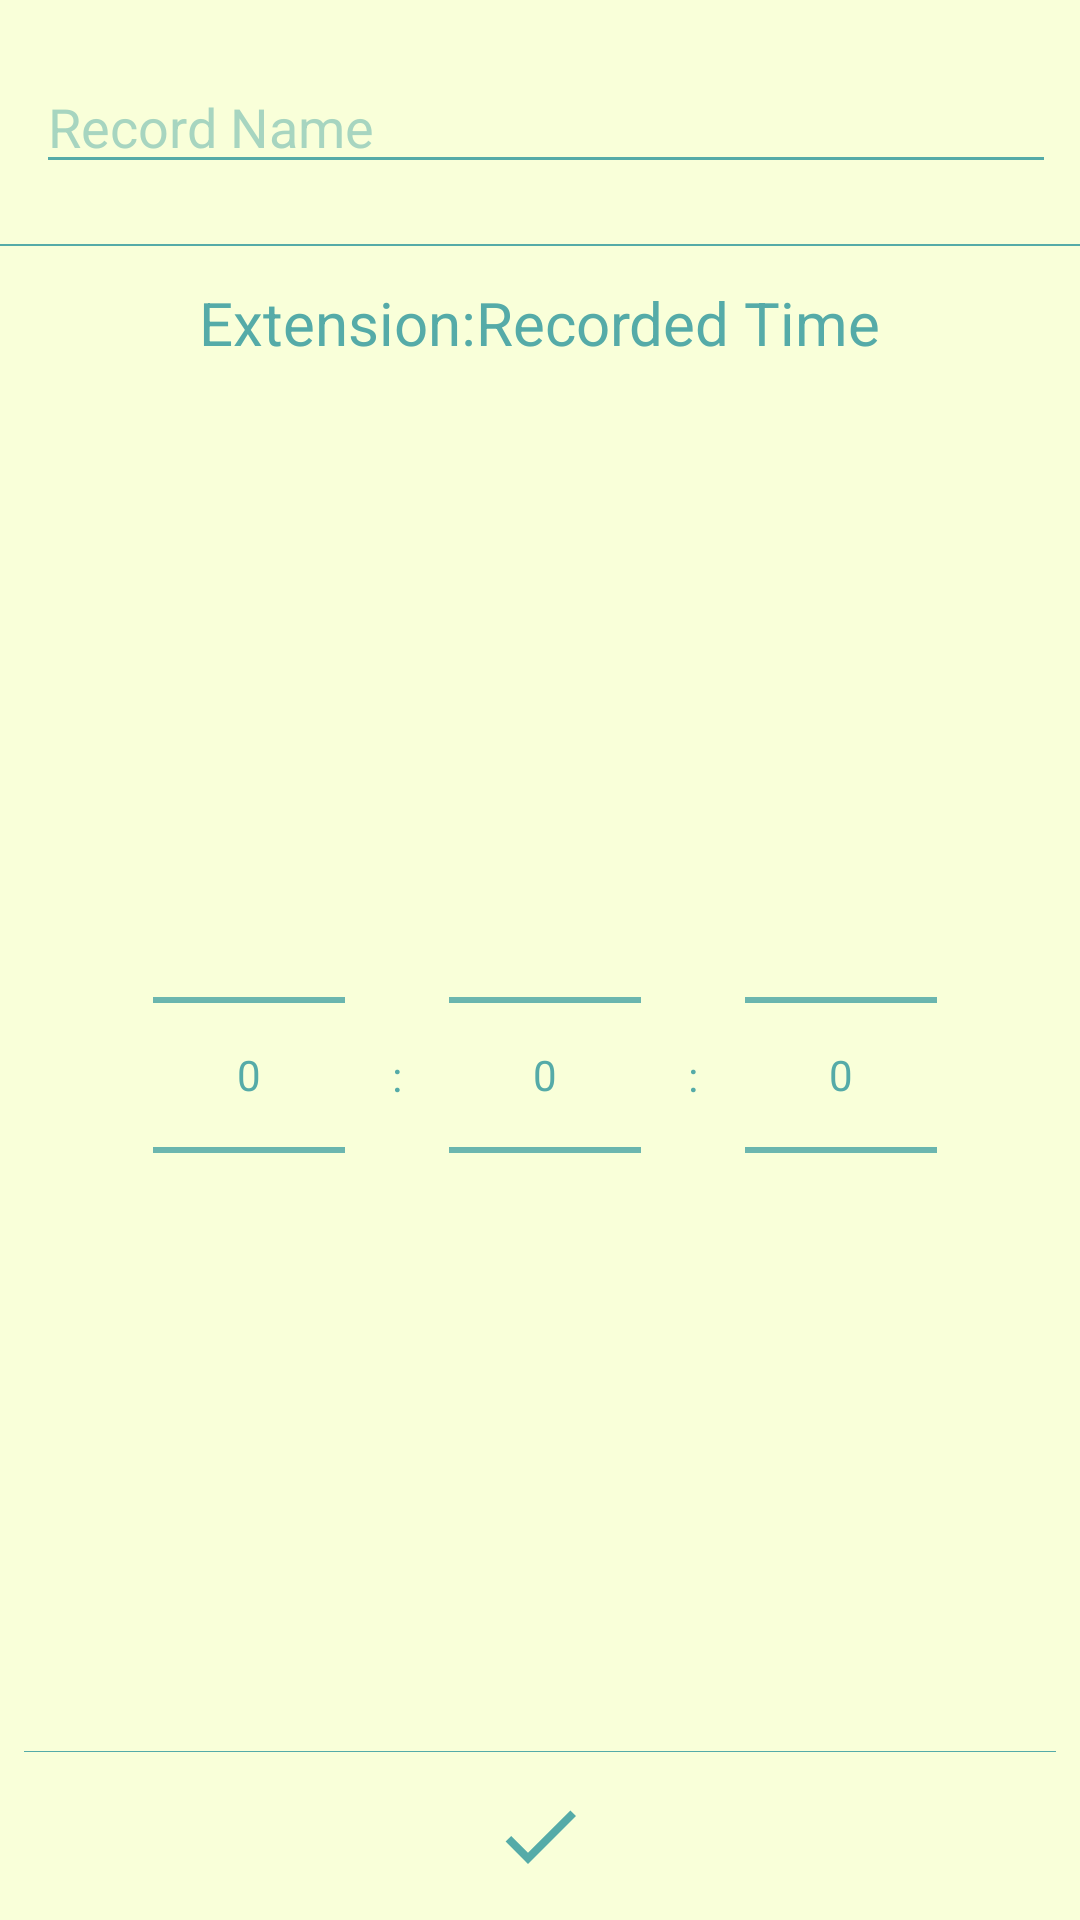

Icons on this 1080 x 1920 Android screen, each with its box as (x1, y1, x2, y2):
check main: (506, 1810, 576, 1864)
